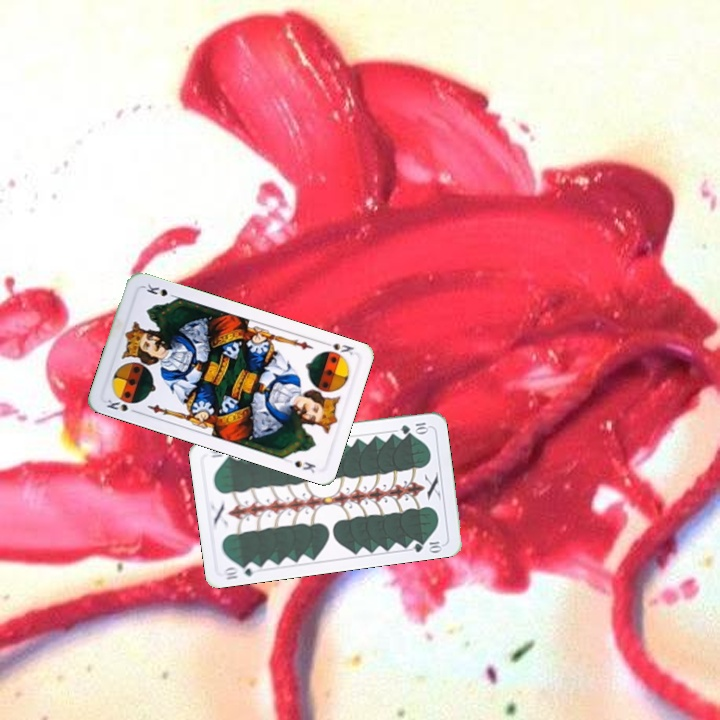G10: (219, 559, 260, 582), (397, 418, 431, 436)
SK: (103, 393, 141, 416), (319, 339, 356, 358)
